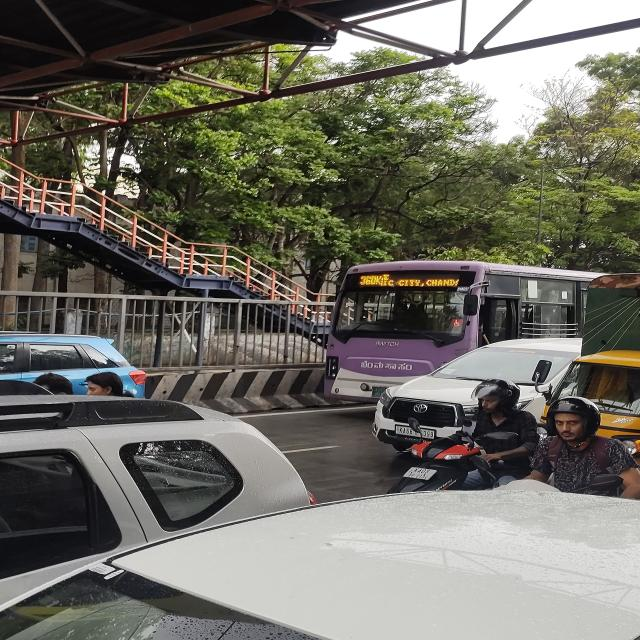bus: (328, 247, 601, 412)
display: (350, 269, 476, 295)
dnumber: (359, 274, 394, 287)
